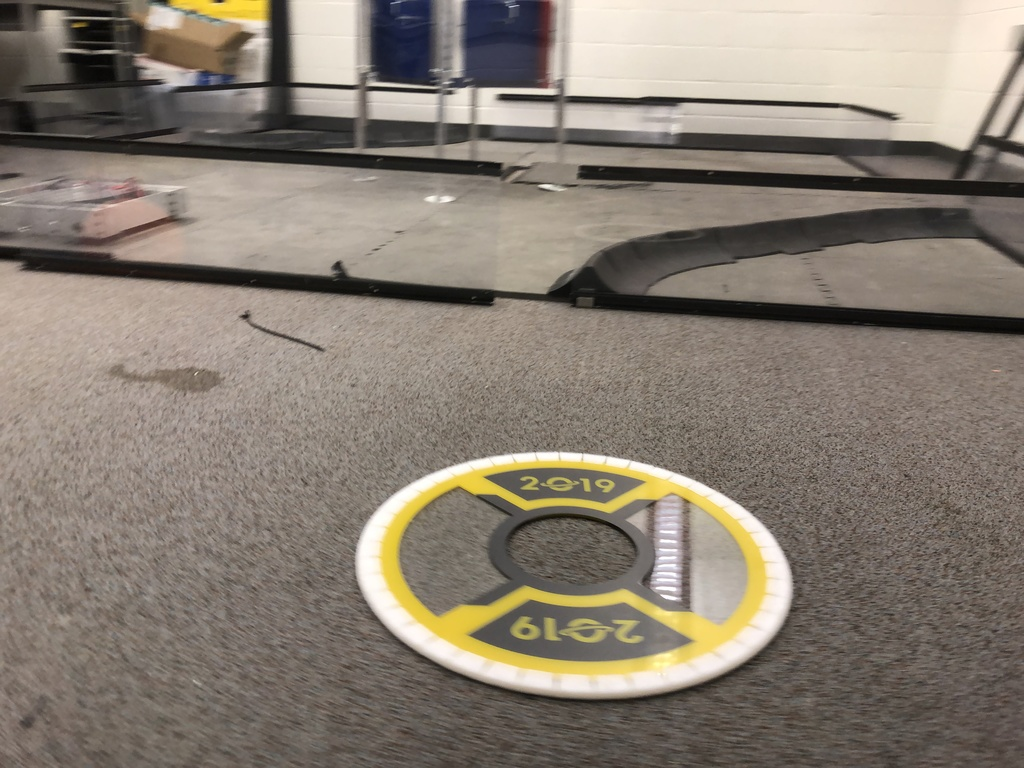hatch_panel: (332, 438, 816, 705)
